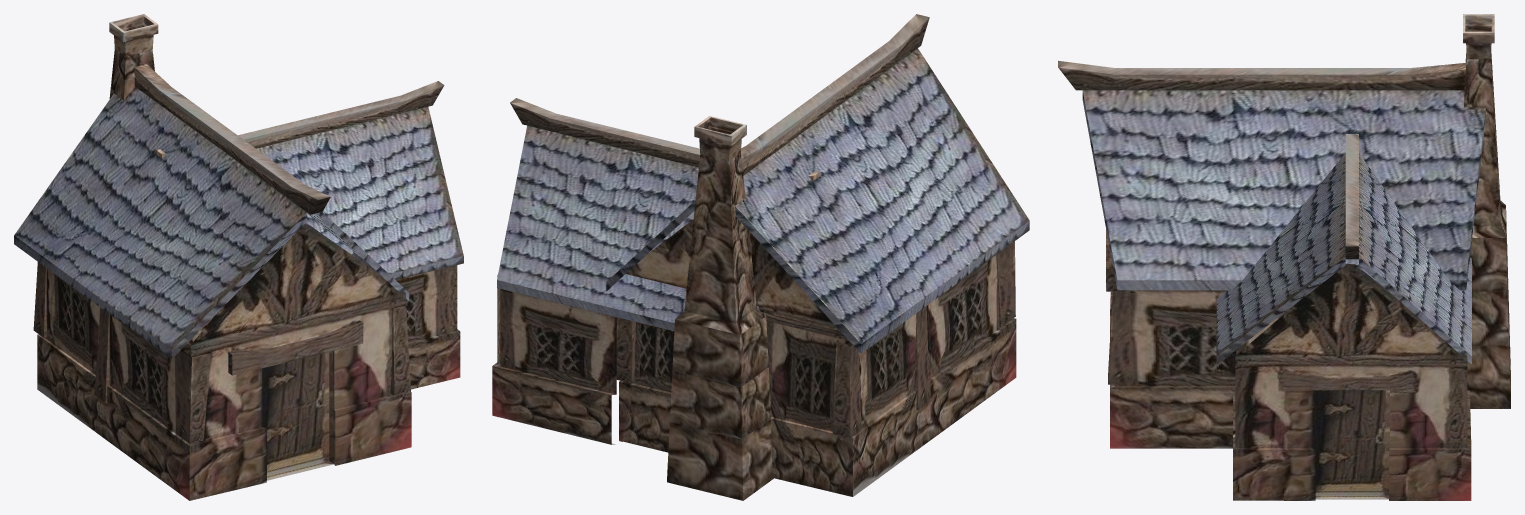
The picture shows the model from 3 angles, left to right: view 1: azimuth 30°, elevation 25°; view 2: azimuth 150°, elevation 25°; view 3: azimuth 270°, elevation 25°; orthographic projection. The views are drawn at different scales.
Parts seen in each view (by area): view 1: h2.001; view 2: h2.001; view 3: h2.001.
Boxes of the visible parts, box(x1,y1,x2,y2) form: h2.001: box(14, 14, 463, 500); h2.001: box(492, 14, 1029, 500); h2.001: box(1058, 14, 1510, 500).
Bounding box in the file's own units: 1.93 × 1.62 × 1.81.
Materials: 1 (1 with a texture image).
